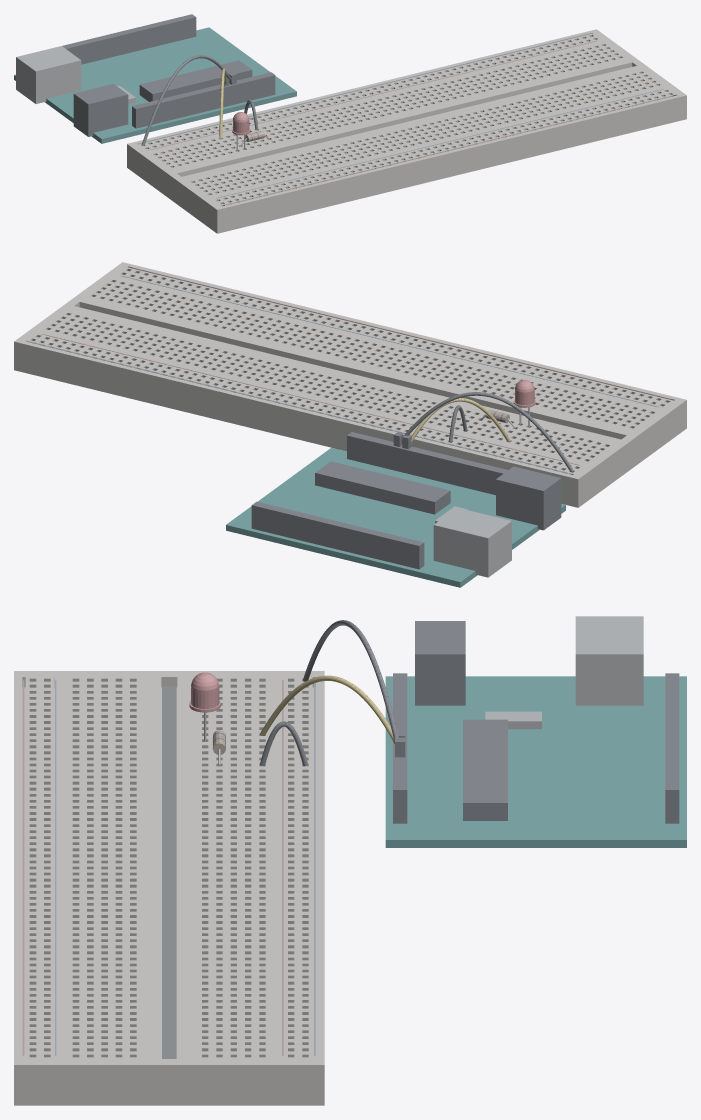
3 views of the same model, one above another, from view 1: azimuth 30°, elevation 25°; view 2: azimuth 150°, elevation 25°; view 3: azimuth 270°, elevation 25° (orthographic). The views are drawn at different scales.
Visible parts, largest first — view 1: breadboard__mesh, uno__mesh, ground_feed__mesh, red_led__mesh; view 2: breadboard__mesh, uno__mesh, ground_feed__mesh, led_signal__mesh, red_led__mesh; view 3: breadboard__mesh, uno__mesh, ground_feed__mesh, red_led__mesh, led_signal__mesh.
Part boxes in pixels (x1,y1,x2,y2): breadboard__mesh: (127,29,686,233); uno__mesh: (14,14,296,143); ground_feed__mesh: (141,55,236,145); red_led__mesh: (232,112,250,150); breadboard__mesh: (14,262,686,507); uno__mesh: (226,432,565,587); ground_feed__mesh: (393,392,573,472); led_signal__mesh: (402,398,510,449); red_led__mesh: (513,380,535,426); breadboard__mesh: (14,671,324,1105); uno__mesh: (385,616,686,847); ground_feed__mesh: (303,620,405,757); red_led__mesh: (189,672,220,741); led_signal__mesh: (260,675,405,744).
Size of the model in its own units: 0.1713 by 0.0286 by 0.1192.
